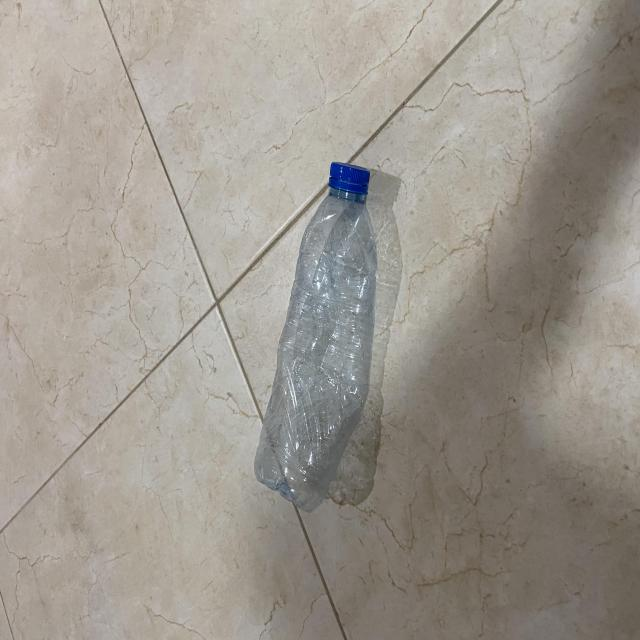bottle: (262, 168, 380, 506)
